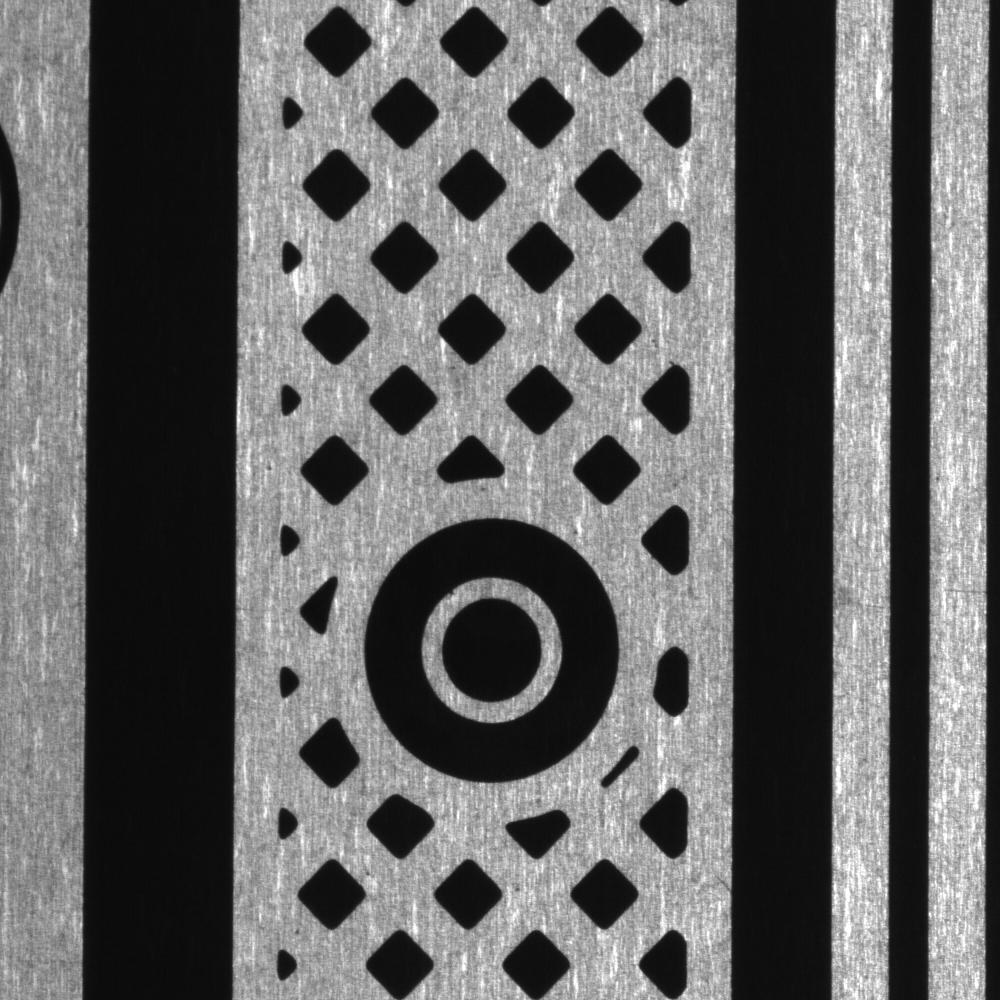Pinhole: (933, 473, 944, 484)
Scar: (942, 586, 989, 598)
